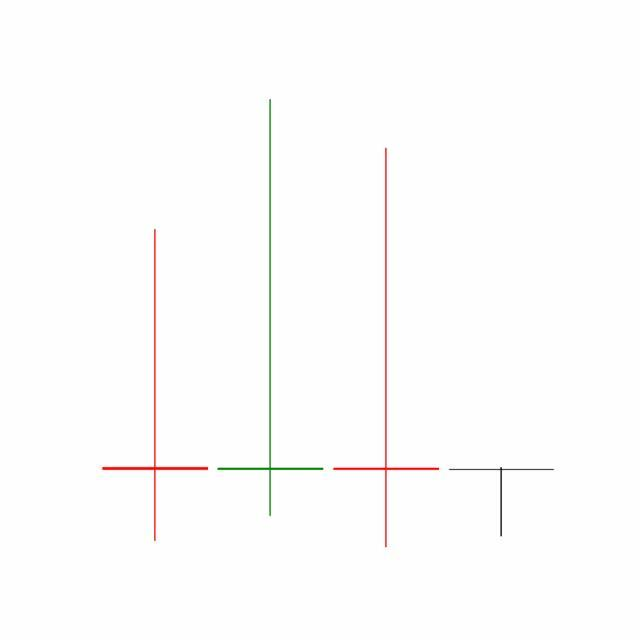Dragonfly Doji: (444, 466, 560, 538)
